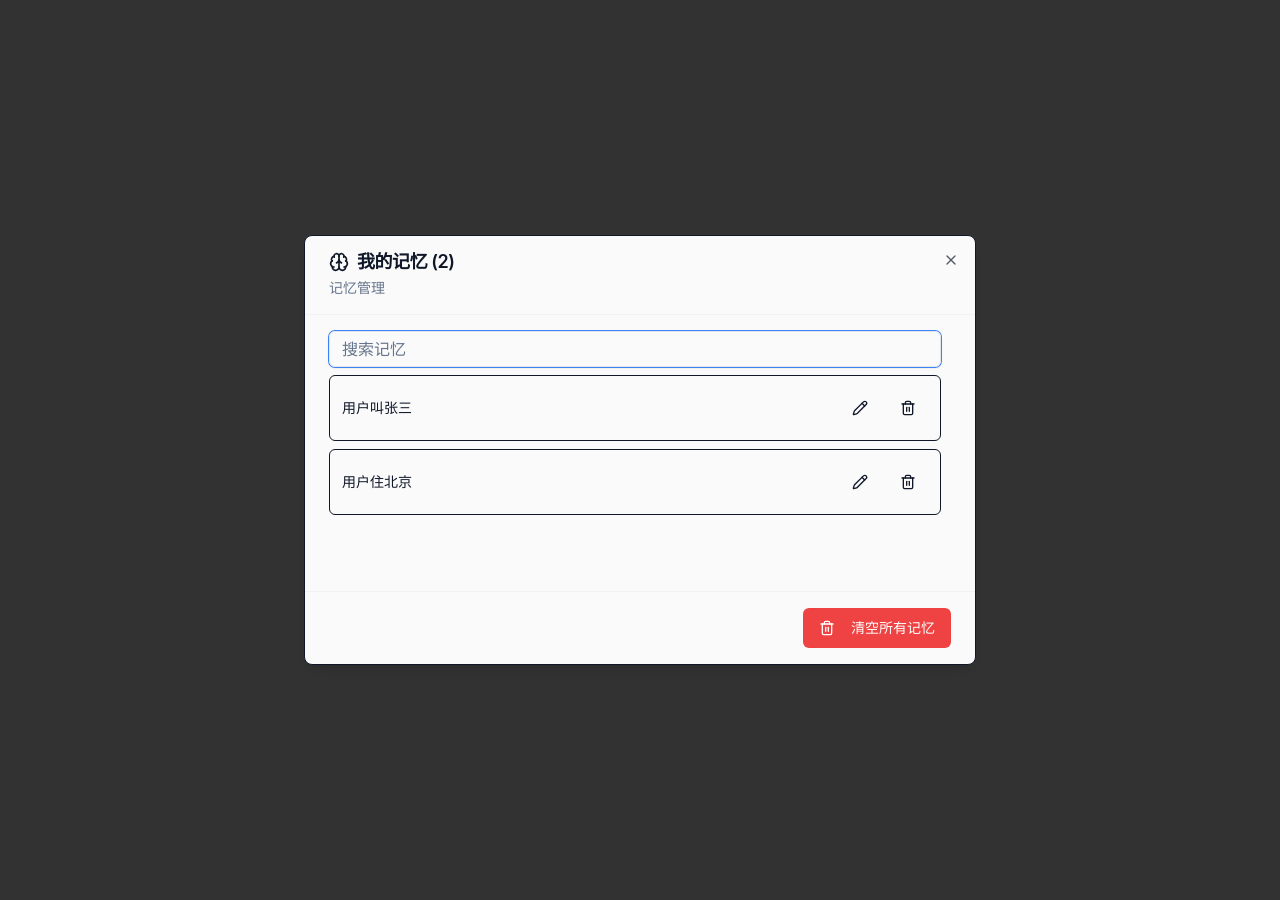
Scenario: MemoryManagementDialog › 搜索 '北京' → 只显示匹配项
Expected: the text "用户叫张三" is shown, [342,399,412,416]
Type "北京" into the field with placeholder "搜索记忆".
click(635, 349); type("北京")  # box [329,331,941,367]
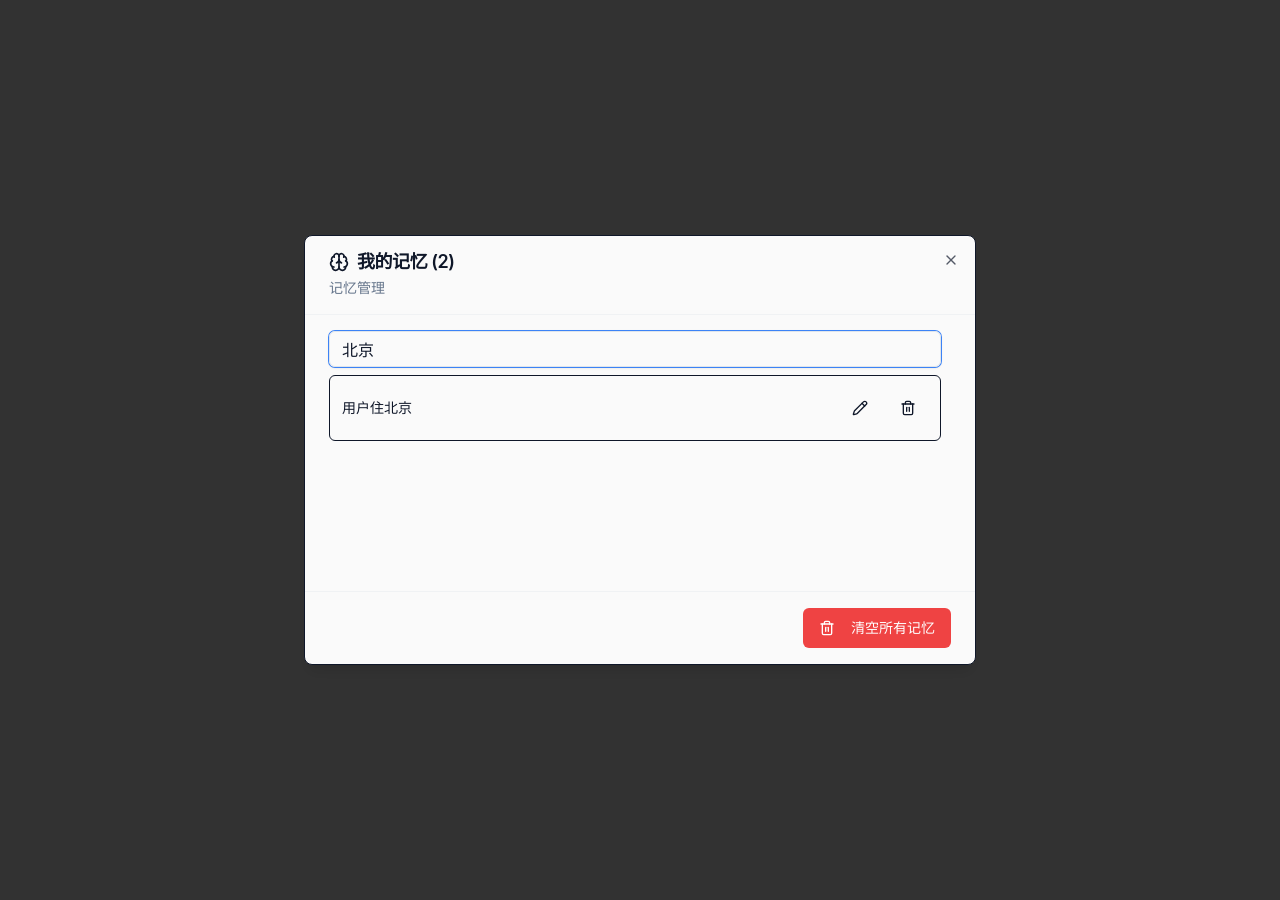
Expected: the text "用户住北京" is shown, [342,399,412,416]
Result: the text "用户叫张三" is gone
